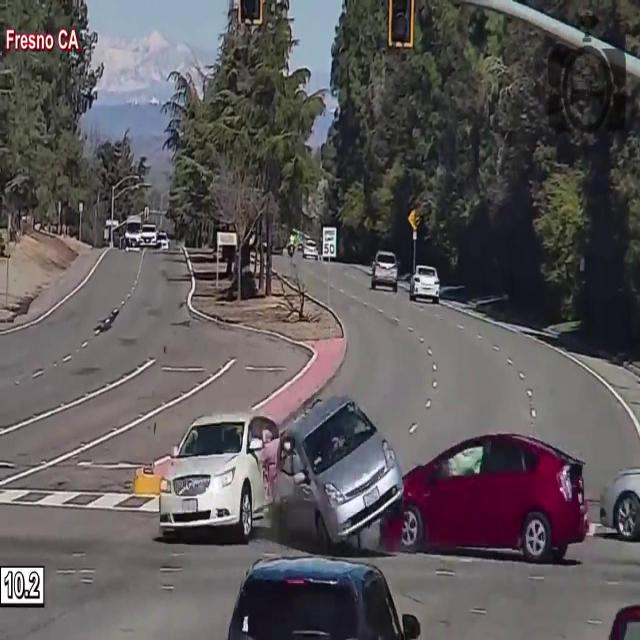accident: (147, 388, 595, 570)
